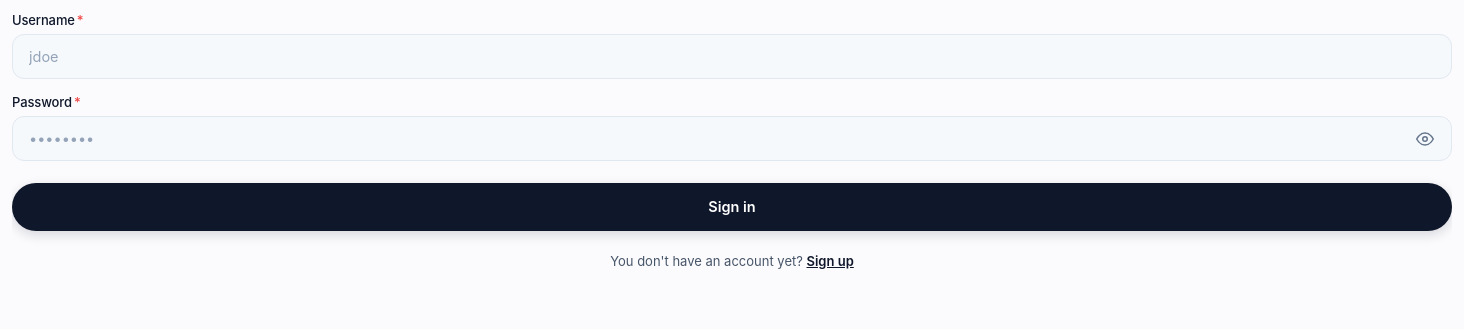
Test: LoginForm — connexion › efface l’erreur d’un champ dès qu’on le modifie
This screenshot has width=1464, height=329.
Click the button "Sign in". click: point(732, 207)
box: [12,183,1452,231]
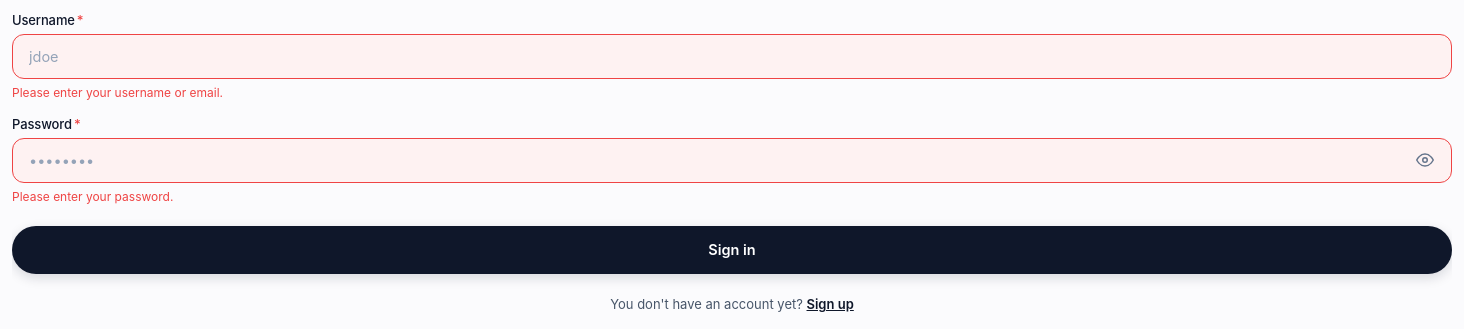
Result: the text "Please enter your username or email." is shown at [12,85,223,100]
Type "j" into the field labelled "Username*". click: point(732, 56)
box: [12,34,1452,79]
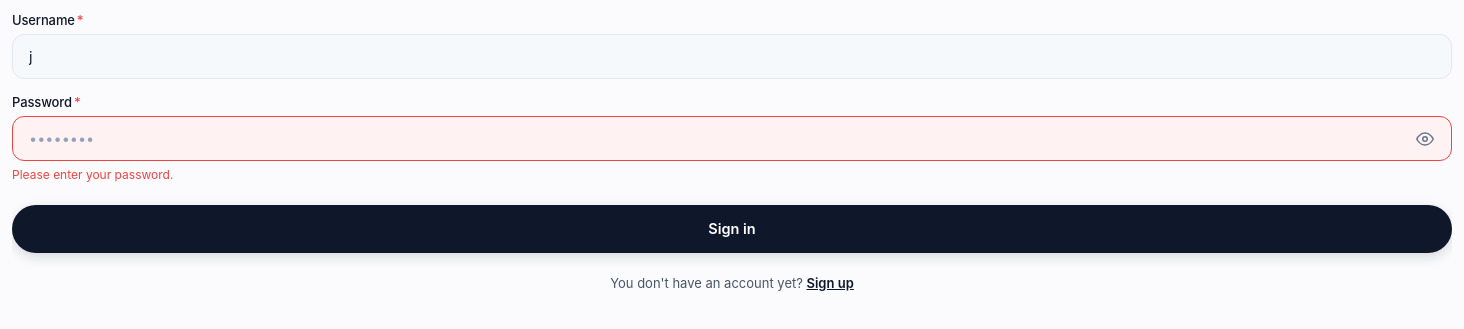
Result: the text "Please enter your username or email." is gone
